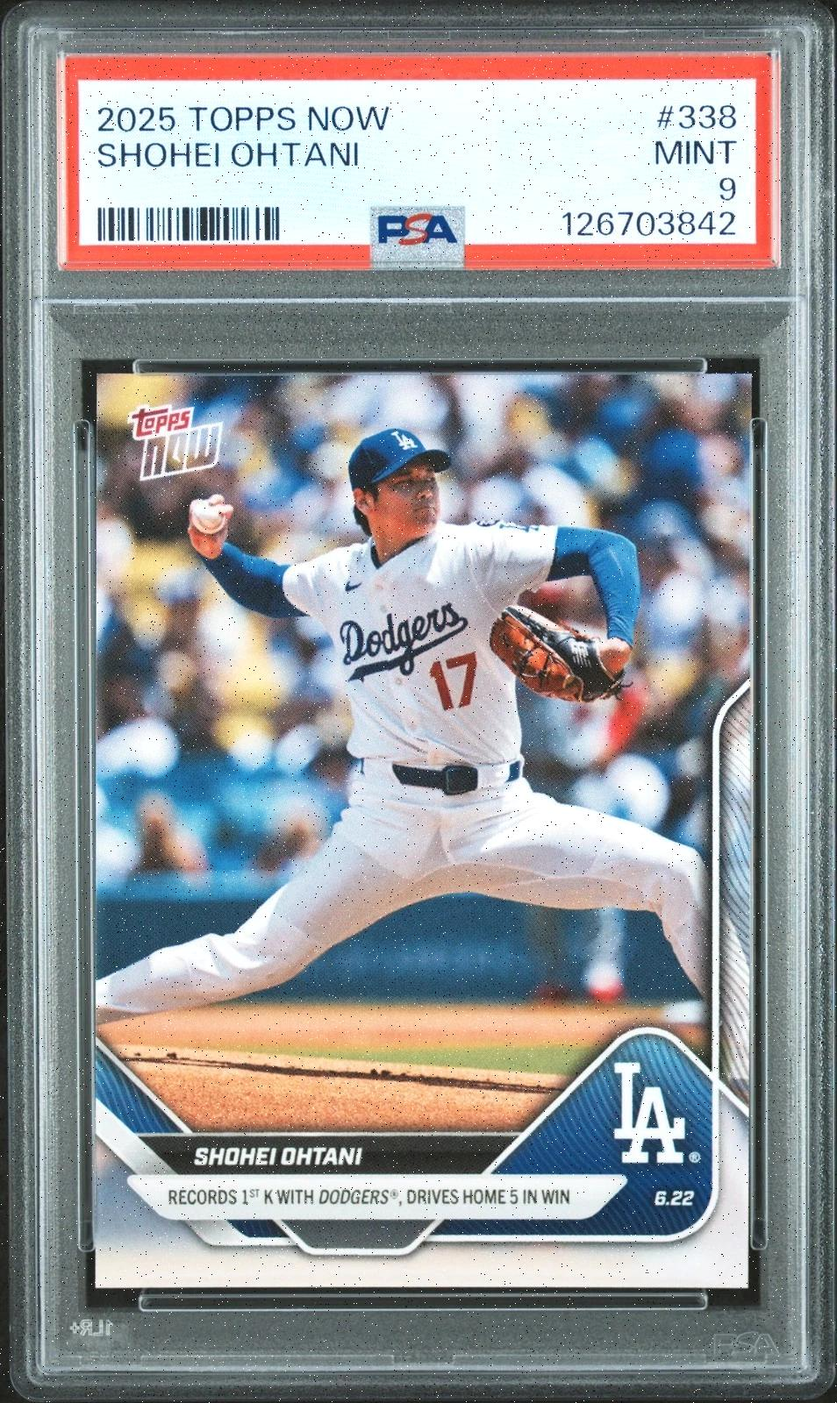card-2UtV: (94, 373, 753, 1289)
